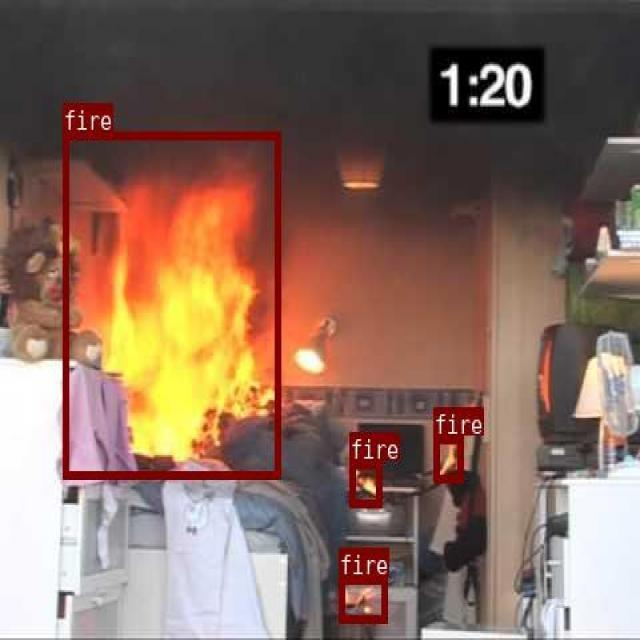fire: (62, 131, 280, 478), (337, 575, 386, 621), (349, 460, 381, 505), (433, 435, 461, 480)
